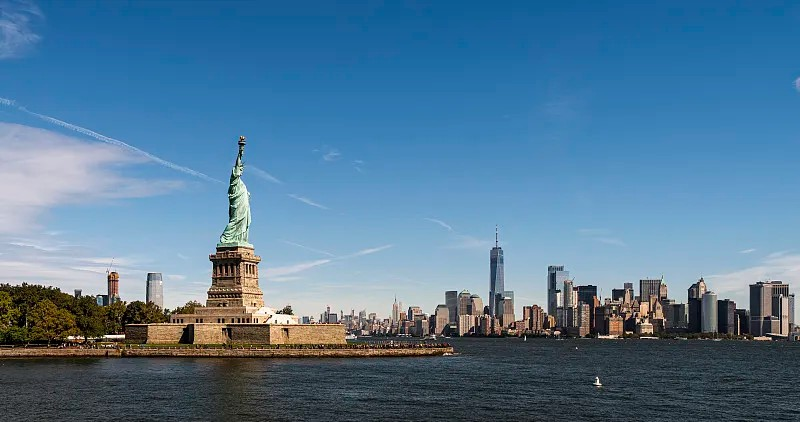SL: (206, 135, 264, 307)
